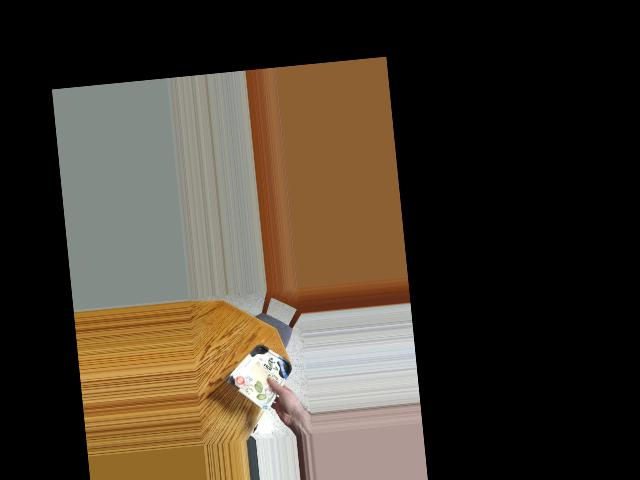cheese: (230, 350, 290, 393)
